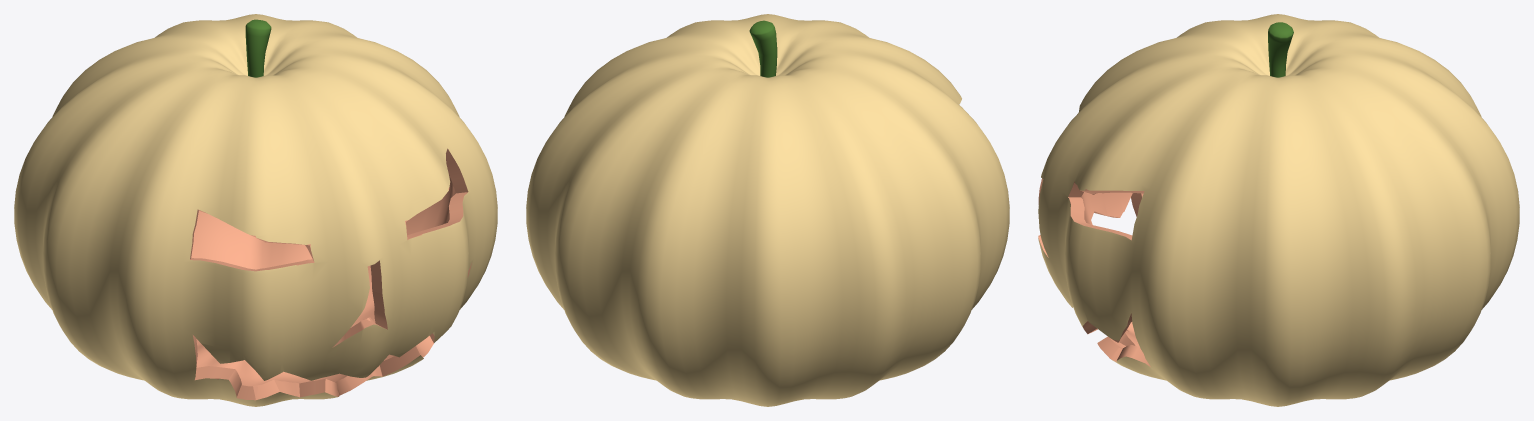
Rendered from potiron2.obj.
3 views of the same model, side by side, from view 1: azimuth 30°, elevation 25°; view 2: azimuth 150°, elevation 25°; view 3: azimuth 270°, elevation 25° (orthographic).
Visible parts, largest first — view 1: body, tail; view 2: body, tail; view 3: body, tail.
Part boxes in pixels (x1,y1,x2,y2): body: (14,14,497,406); tail: (245,19,271,77); body: (526,14,1009,406); tail: (749,20,777,77); body: (1038,14,1519,406); tail: (1268,22,1293,77).
Bounding box in the file's own units: 22.86 × 17.43 × 22.77.
